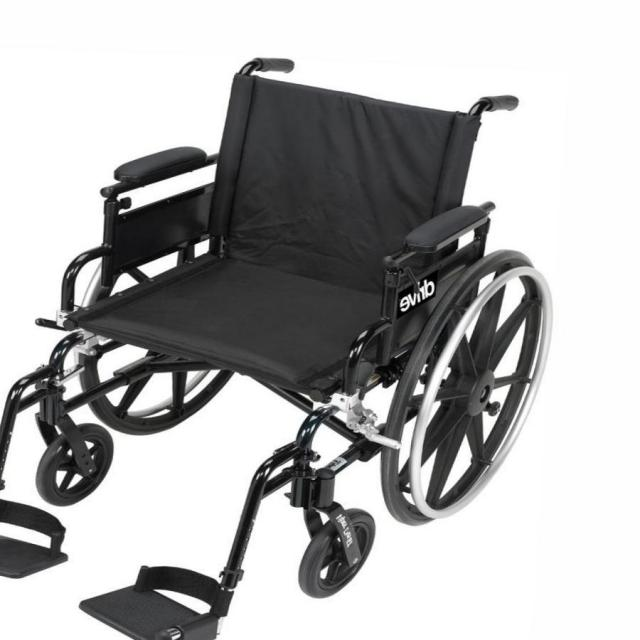wheelchair: (2, 34, 562, 640)
